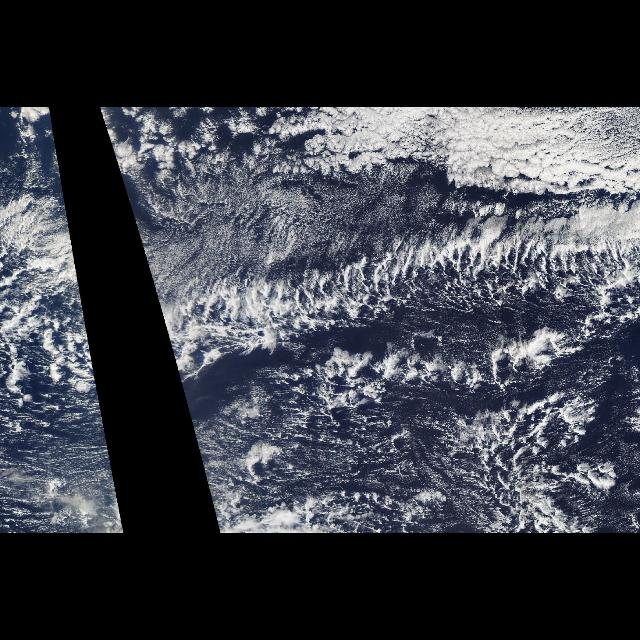Gravel: (309, 346, 593, 480), (218, 263, 634, 319)
Sugar: (155, 163, 447, 254)
